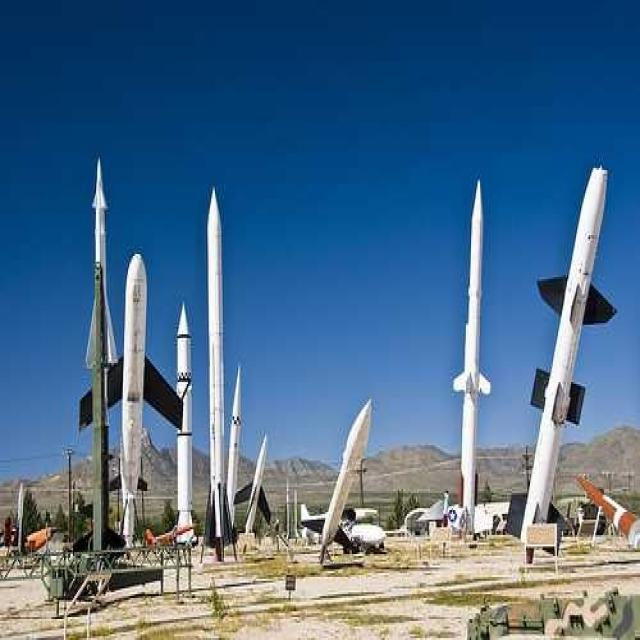missile: (504, 164, 616, 552), (204, 191, 245, 580), (298, 385, 379, 572), (445, 177, 488, 527), (116, 253, 166, 546), (83, 164, 113, 592), (172, 304, 194, 562), (238, 428, 275, 546)
